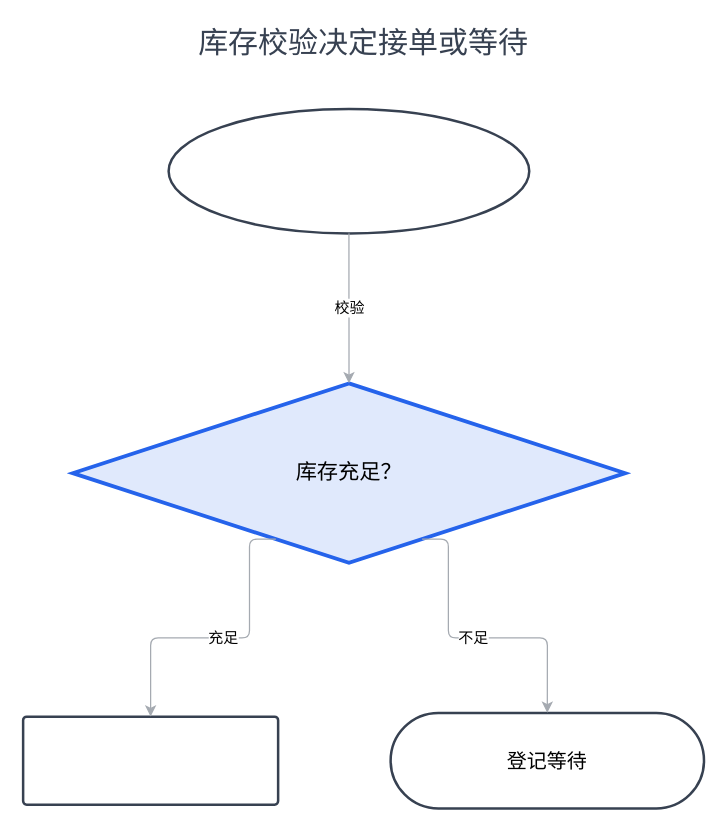
Some shapes in this 726 by 831 pixel diagram are drawn without their labels. The shapes that lost their labels are listed below. From the top down, each one's box as (x1, y1, x2, y2) in pixels, then its label:
(167, 107, 530, 234): 接收订单
(21, 715, 279, 805): 确认接单
